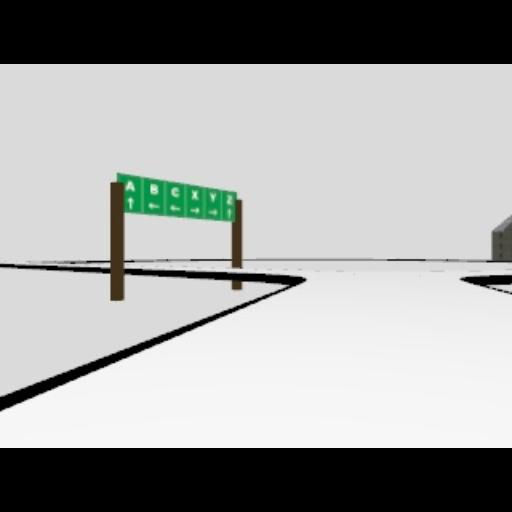A: (126, 180, 136, 192)
B: (149, 184, 159, 196)
C: (171, 186, 181, 198)
Left: (170, 204, 182, 212)
Right: (189, 206, 201, 216), (206, 208, 218, 216)
Straight: (127, 196, 135, 210), (225, 208, 233, 220)
X: (191, 190, 199, 200)
Y: (209, 192, 217, 202)
Z: (226, 194, 234, 206)
